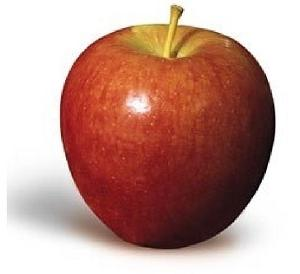apple: (0, 0, 300, 274)
